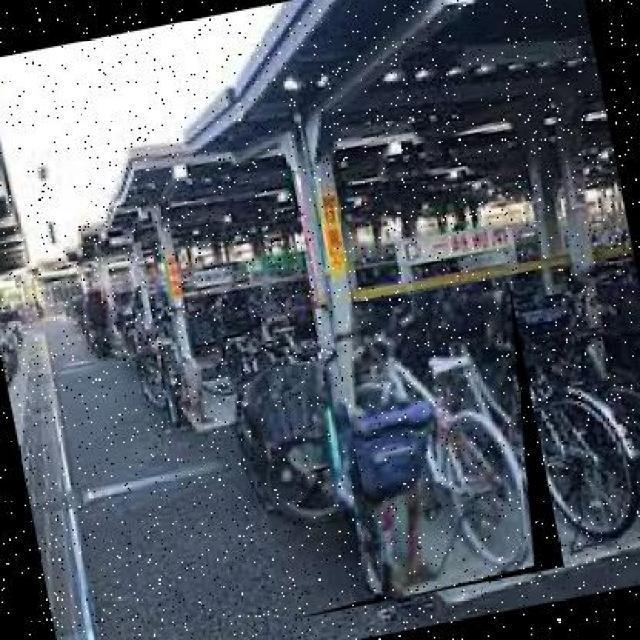bicycle: (329, 275, 566, 603), (242, 346, 443, 623)
